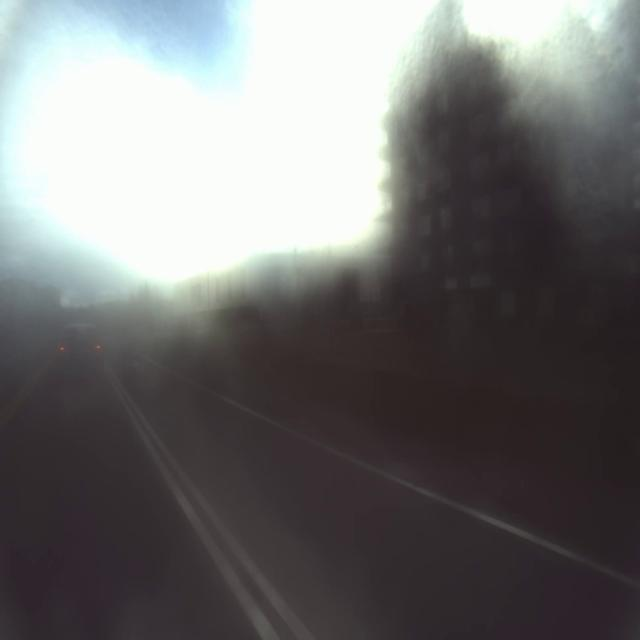car: (49, 316, 113, 392)
